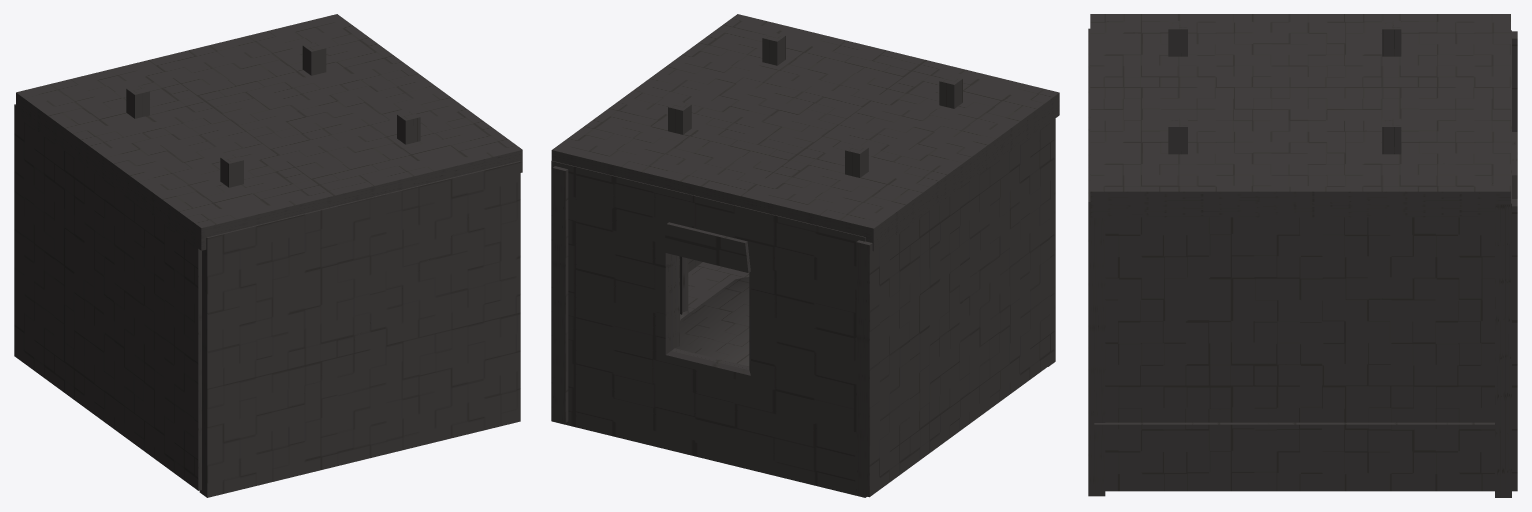
File: Hub room.fbx
3 views of the same model, side by side, from view 1: azimuth 30°, elevation 25°; view 2: azimuth 150°, elevation 25°; view 3: azimuth 270°, elevation 25° (orthographic). The views are drawn at different scales.
Visible parts, largest first — view 1: pCube4, pCube14, pCube3, pCube15, pCube17, pCube16, pCube10; view 2: pCube18, pCube14, pCube3, Lava_pools, pCube21, pCube15, pCube17, pCube16, pCube10; view 3: pCube21, pCube14, pCube4, pCube18, Lava_pools, pCube10, pCube15, pCube17, pCube16, pCube3.
Part boxes in pixels (<box>): pCube4: <box>199,161,520,497</box>; pCube14: <box>16,14,522,250</box>; pCube3: <box>14,104,201,490</box>; pCube15: <box>302,42,326,75</box>; pCube17: <box>220,154,243,187</box>; pCube16: <box>126,85,149,118</box>; pCube10: <box>397,111,420,144</box>; pCube18: <box>551,160,866,497</box>; pCube14: <box>551,14,1059,251</box>; pCube3: <box>856,119,1054,497</box>; Lava_pools: <box>675,262,749,366</box>; pCube21: <box>552,166,702,422</box>; pCube15: <box>668,101,691,320</box>; pCube17: <box>939,75,962,108</box>; pCube16: <box>845,144,868,177</box>; pCube10: <box>762,32,785,65</box>; pCube21: <box>1105,199,1517,491</box>; pCube14: <box>1090,14,1510,217</box>; pCube4: <box>1088,28,1105,496</box>; pCube18: <box>1495,30,1517,497</box>; Lava_pools: <box>1094,422,1494,424</box>; pCube10: <box>1168,118,1187,154</box>; pCube15: <box>1382,118,1401,154</box>; pCube17: <box>1168,21,1187,56</box>; pCube16: <box>1382,21,1401,56</box>; pCube3: <box>1512,31,1517,198</box>.
Size of the model in its own units: 1680 by 1470 by 1715.
3 materials, 3 textured.
